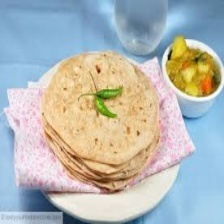roti: (40, 51, 160, 195)
